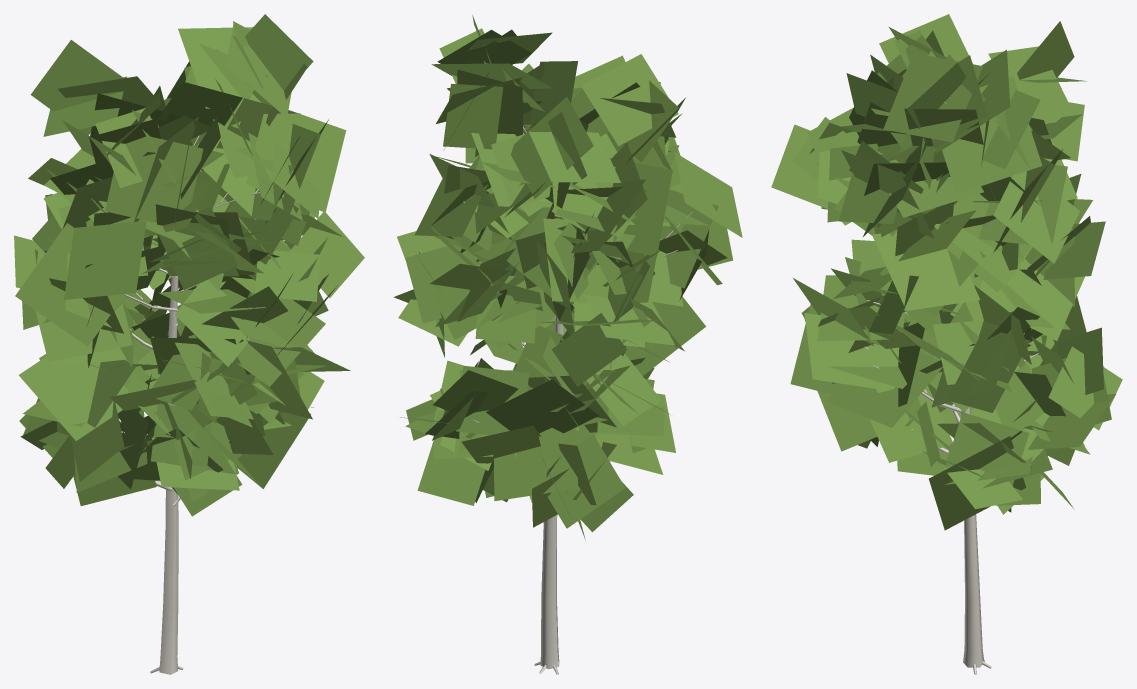
File: birch-4-lod2.glb
3 views of the same model, side by side, from view 1: azimuth 30°, elevation 25°; view 2: azimuth 150°, elevation 25°; view 3: azimuth 270°, elevation 25° (orthographic). The views are drawn at different scales.
Parts seen in each view (by area): view 1: birch-4-lod2-foliage, birch-4-lod2-bark; view 2: birch-4-lod2-foliage, birch-4-lod2-bark; view 3: birch-4-lod2-foliage, birch-4-lod2-bark.
Part boxes in pixels (x1,y1,x2,y2): birch-4-lod2-foliage: (14, 14, 364, 516); birch-4-lod2-bark: (118, 135, 259, 674); birch-4-lod2-foliage: (393, 15, 742, 540); birch-4-lod2-bark: (472, 61, 692, 674); birch-4-lod2-foliage: (771, 14, 1122, 530); birch-4-lod2-bark: (864, 102, 1039, 674).
Size of the model in its own units: 12.5 by 22.99 by 11.29.
